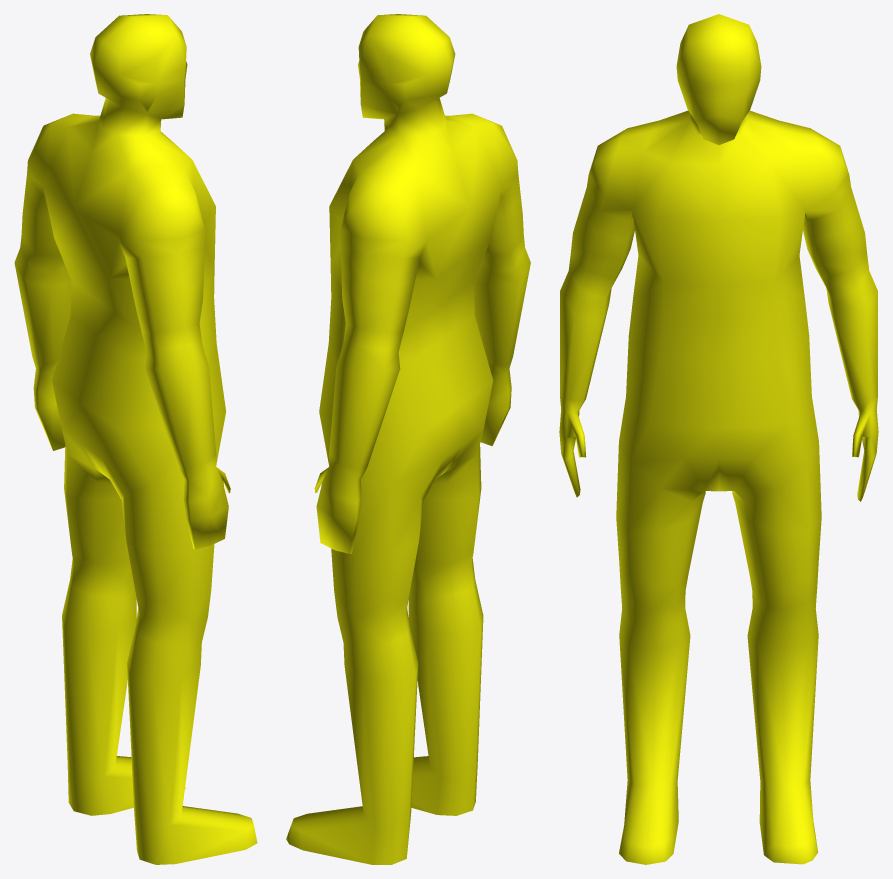
Rendered from Character_Killer_01.glb.
The picture shows the model from 3 angles, left to right: view 1: azimuth 30°, elevation 25°; view 2: azimuth 150°, elevation 25°; view 3: azimuth 270°, elevation 25°; orthographic projection.
Visible parts, largest first — view 1: Character_Killer_01; view 2: Character_Killer_01; view 3: Character_Killer_01.
Part boxes in pixels (left/top/right/bottom): Character_Killer_01: left=14, top=14, right=257, bottom=864; Character_Killer_01: left=286, top=14, right=530, bottom=864; Character_Killer_01: left=559, top=14, right=878, bottom=864.
Bounding box in the file's own units: 0.3333 × 1.8 × 0.6427.
Materials: 1 (1 with a texture image).
